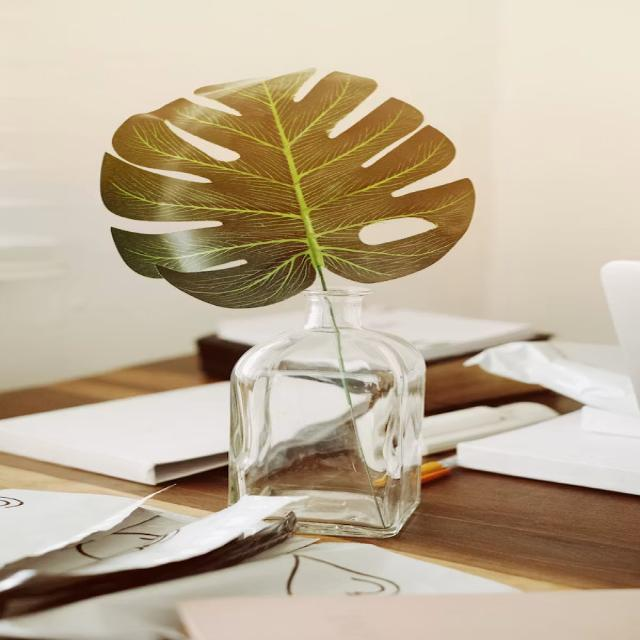Bottle: (230, 288, 425, 537)
